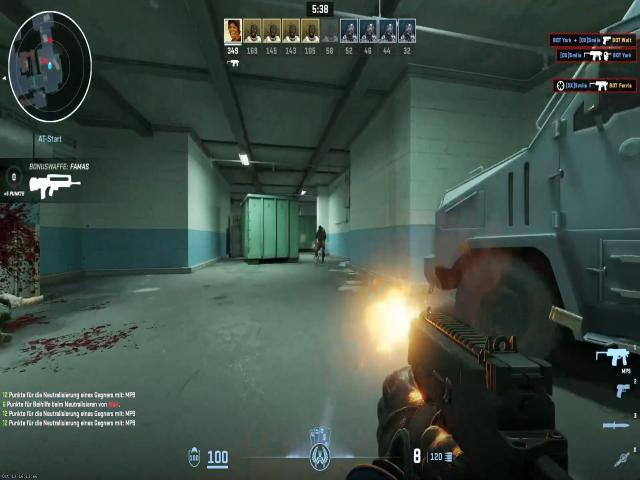CT: (314, 221, 328, 266)
CT-Head: (316, 223, 324, 234)
